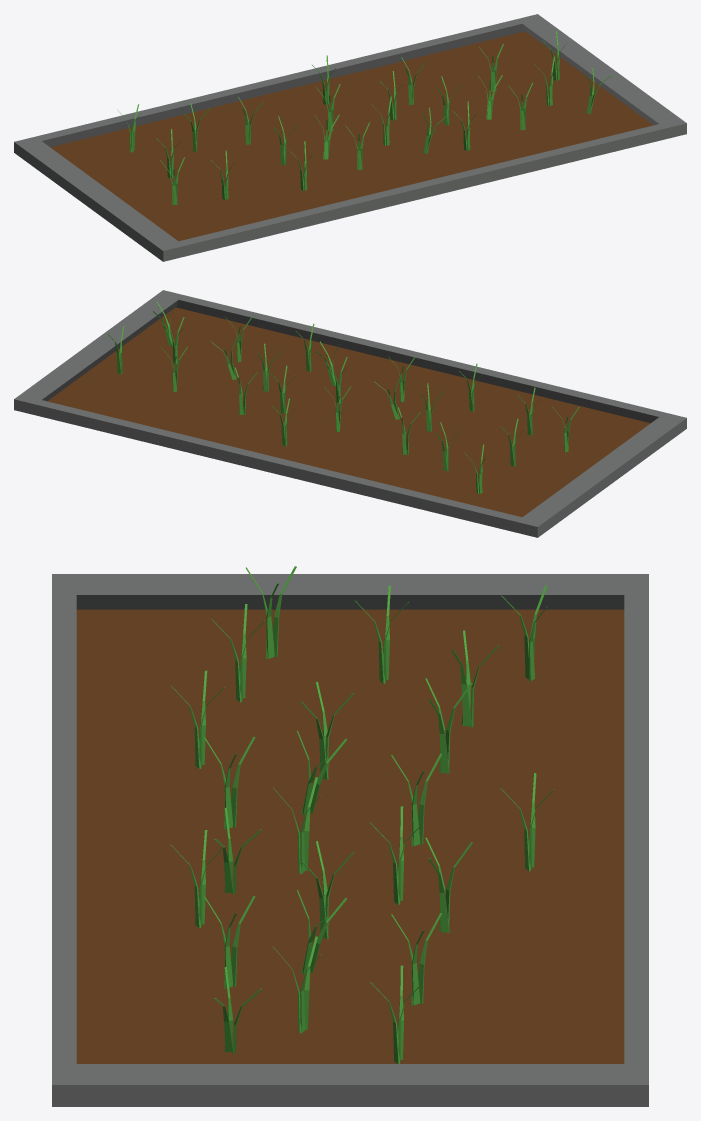
The model's file is bed.fbx.
The picture shows the model from 3 angles, top to bottom: view 1: azimuth 30°, elevation 25°; view 2: azimuth 150°, elevation 25°; view 3: azimuth 270°, elevation 25°; orthographic projection. The views are drawn at different scales.
Parts seen in each view (by area): view 1: Bed; view 2: Bed; view 3: Bed, Grass_020, Grass_019, Grass_000, Grass_023, Grass_017, Grass_002, Grass_004, Grass_015, Grass_001.
Boxes of the visible parts, x1,y1,x2,y2 form: Bed: (14, 14, 686, 261); Bed: (14, 290, 686, 537); Bed: (52, 574, 648, 1106); Grass_020: (246, 566, 296, 658); Grass_019: (391, 753, 442, 846); Grass_000: (391, 913, 442, 1005); Grass_023: (451, 630, 498, 727); Grass_017: (204, 736, 255, 829); Grass_002: (204, 896, 255, 988); Grass_004: (425, 837, 472, 932); Grass_015: (425, 678, 472, 773); Grass_001: (273, 936, 321, 1033).
Bounding box in the file's own units: 5.04 × 0.4365 × 2.48.
